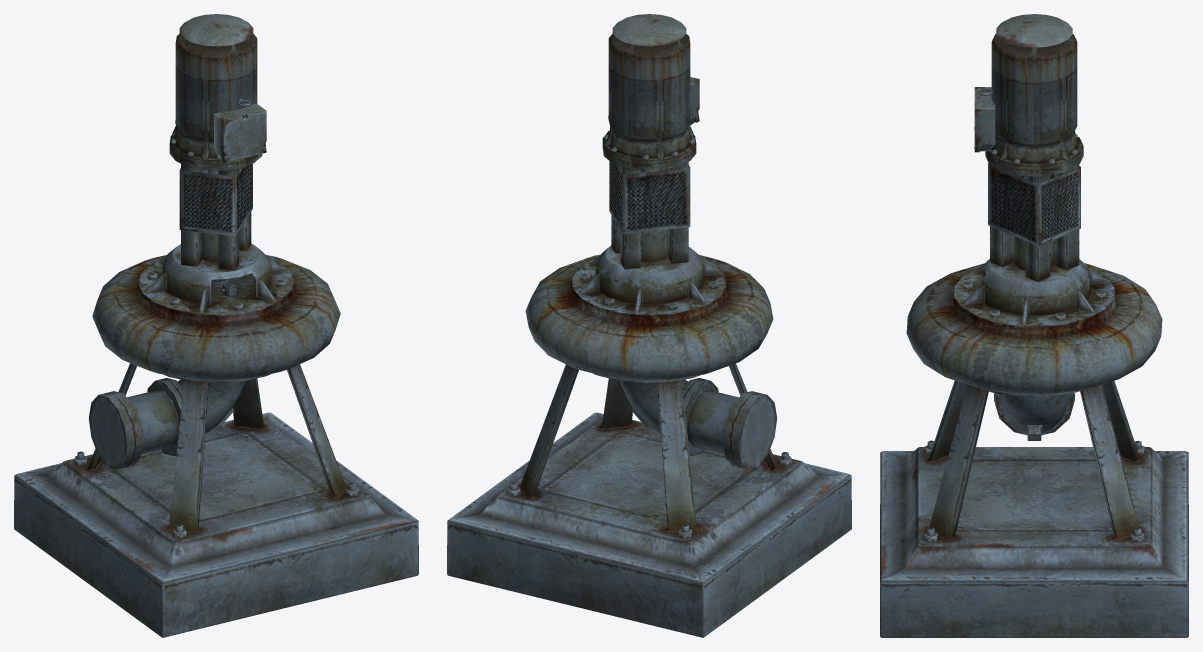
The model's file is sm22_004_motorpumps01a.fbx.
3 views of the same model, side by side, from view 1: azimuth 30°, elevation 25°; view 2: azimuth 150°, elevation 25°; view 3: azimuth 270°, elevation 25° (orthographic). The views are drawn at different scales.
Parts seen in each view (by area): view 1: LOD_1_Group_0_Sub_1__sm22_004_MotorPumpS01A_A_Mat1; view 2: LOD_1_Group_0_Sub_1__sm22_004_MotorPumpS01A_A_Mat1; view 3: LOD_1_Group_0_Sub_1__sm22_004_MotorPumpS01A_A_Mat1.
Boxes of the visible parts, x1,y1,x2,y2 form: LOD_1_Group_0_Sub_1__sm22_004_MotorPumpS01A_A_Mat1: [14, 14, 418, 637]; LOD_1_Group_0_Sub_1__sm22_004_MotorPumpS01A_A_Mat1: [447, 14, 851, 637]; LOD_1_Group_0_Sub_1__sm22_004_MotorPumpS01A_A_Mat1: [880, 14, 1188, 637].
Size of the model in its own units: 1.2 by 2.35 by 1.2.
